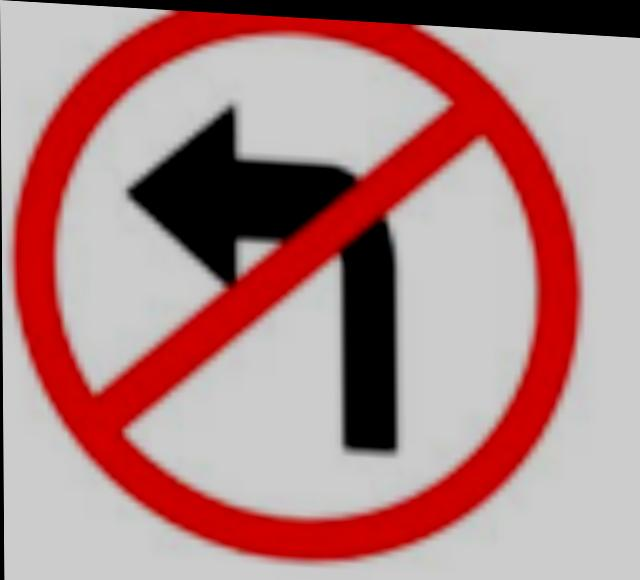not_turn_left: (9, 9, 599, 580)
